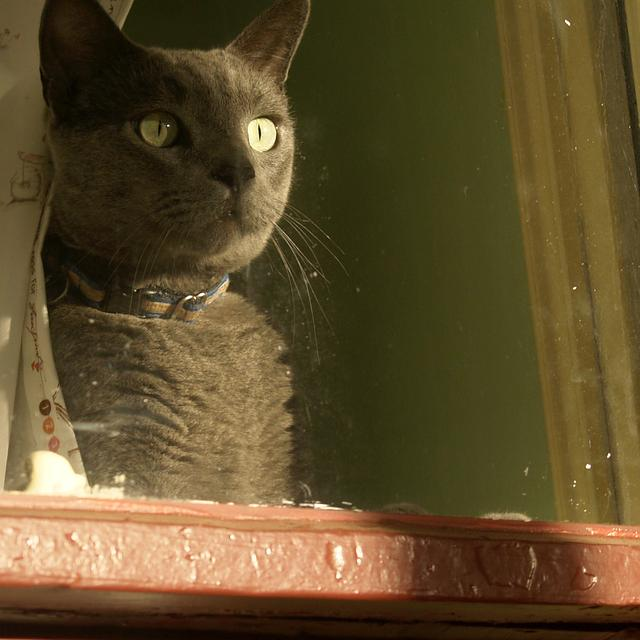animals: (45, 0, 301, 192)
